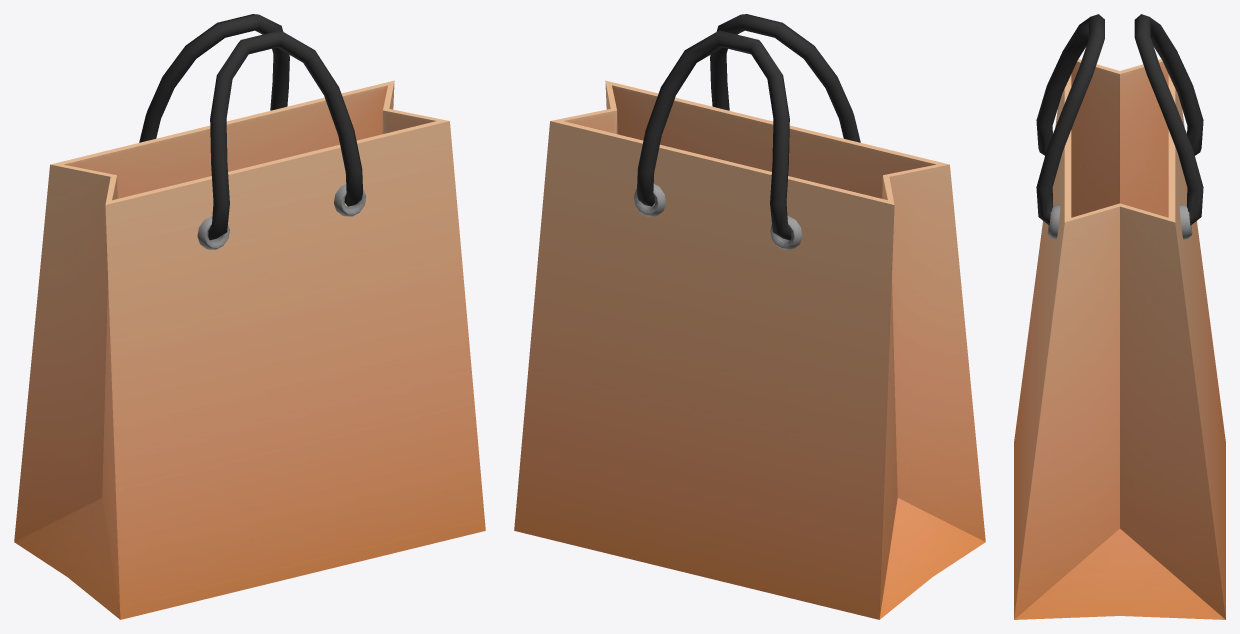
File: Shopping Bag.fbx
The picture shows the model from 3 angles, left to right: view 1: azimuth 30°, elevation 25°; view 2: azimuth 150°, elevation 25°; view 3: azimuth 270°, elevation 25°; orthographic projection.
Visible parts, largest first — view 1: ShoppingBag; view 2: ShoppingBag; view 3: ShoppingBag.
Boxes of the visible parts, x1,y1,x2,y2 form: ShoppingBag: (14, 14, 485, 619); ShoppingBag: (514, 14, 985, 619); ShoppingBag: (1014, 14, 1225, 619).
Bounding box in the file's own units: 11.37 × 15.14 × 5.73.
1 material, 1 textured.
